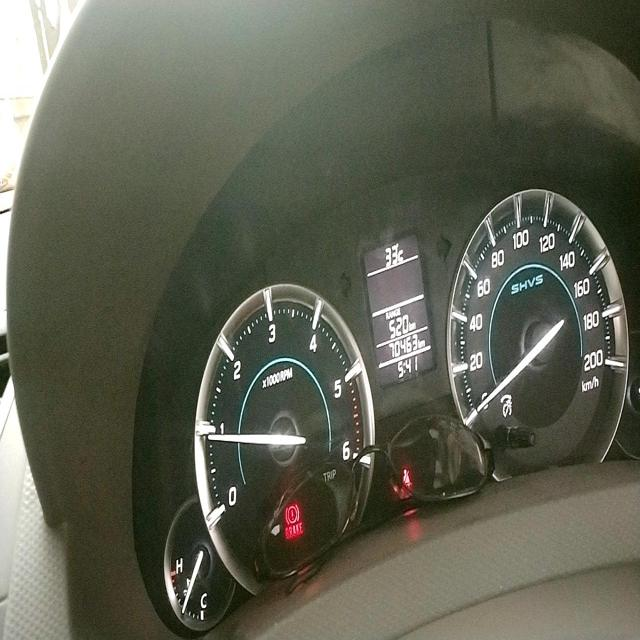odometer: (387, 334, 418, 363)
